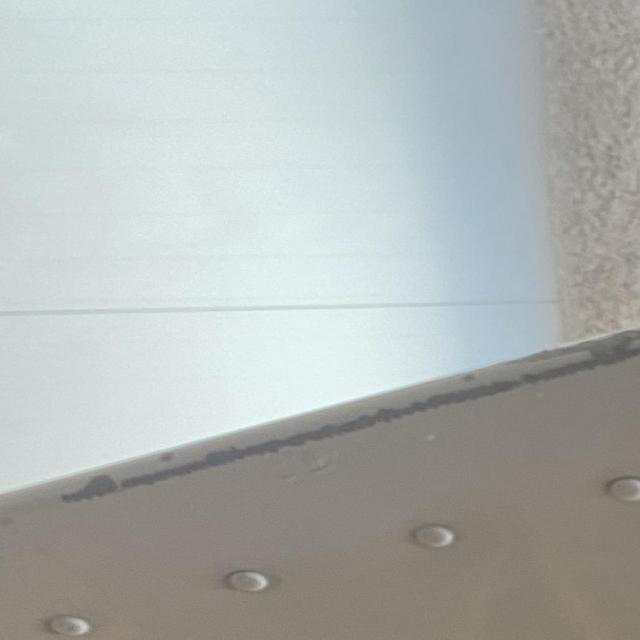Paint-off: (57, 367, 556, 501), (521, 323, 640, 372)
